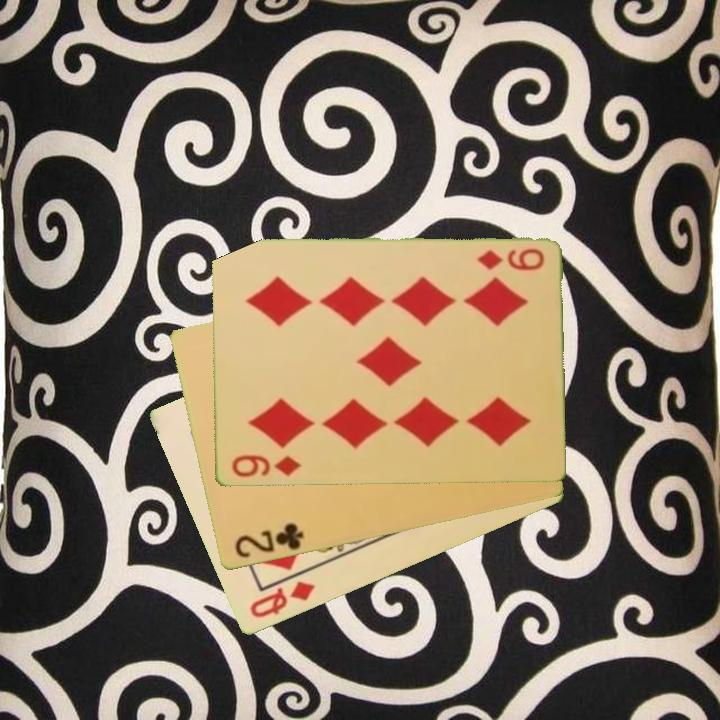2c: (231, 519, 307, 562)
9d: (228, 452, 304, 480), (474, 245, 547, 273)
Qd: (245, 577, 318, 622)
